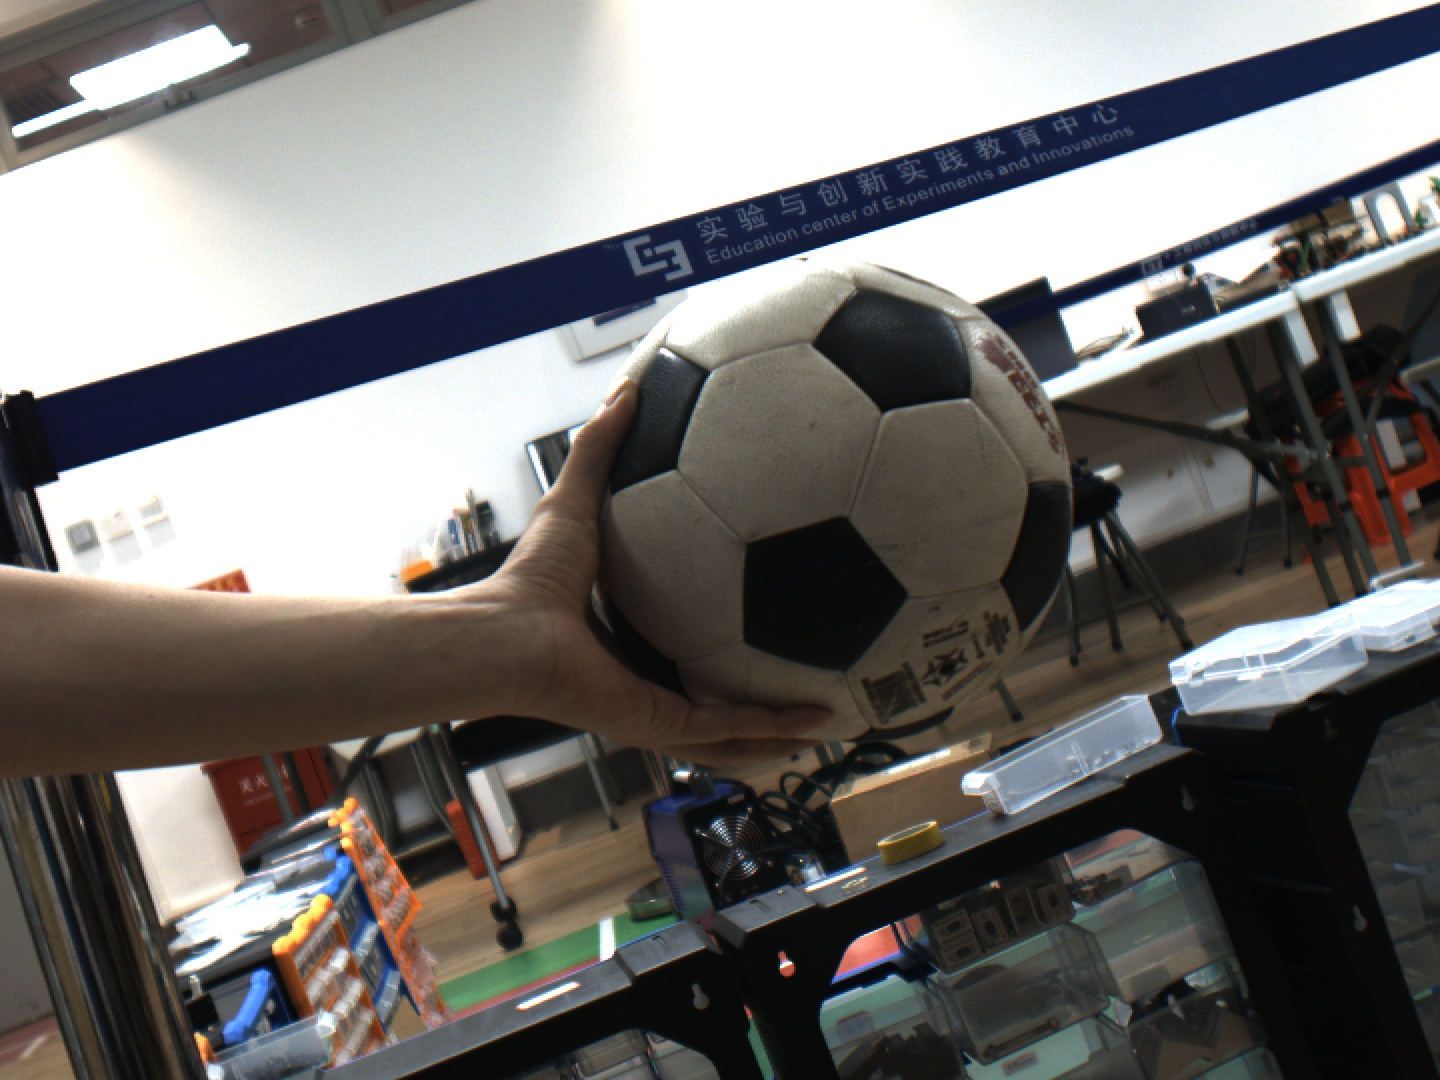ball: (582, 254, 1082, 743)
